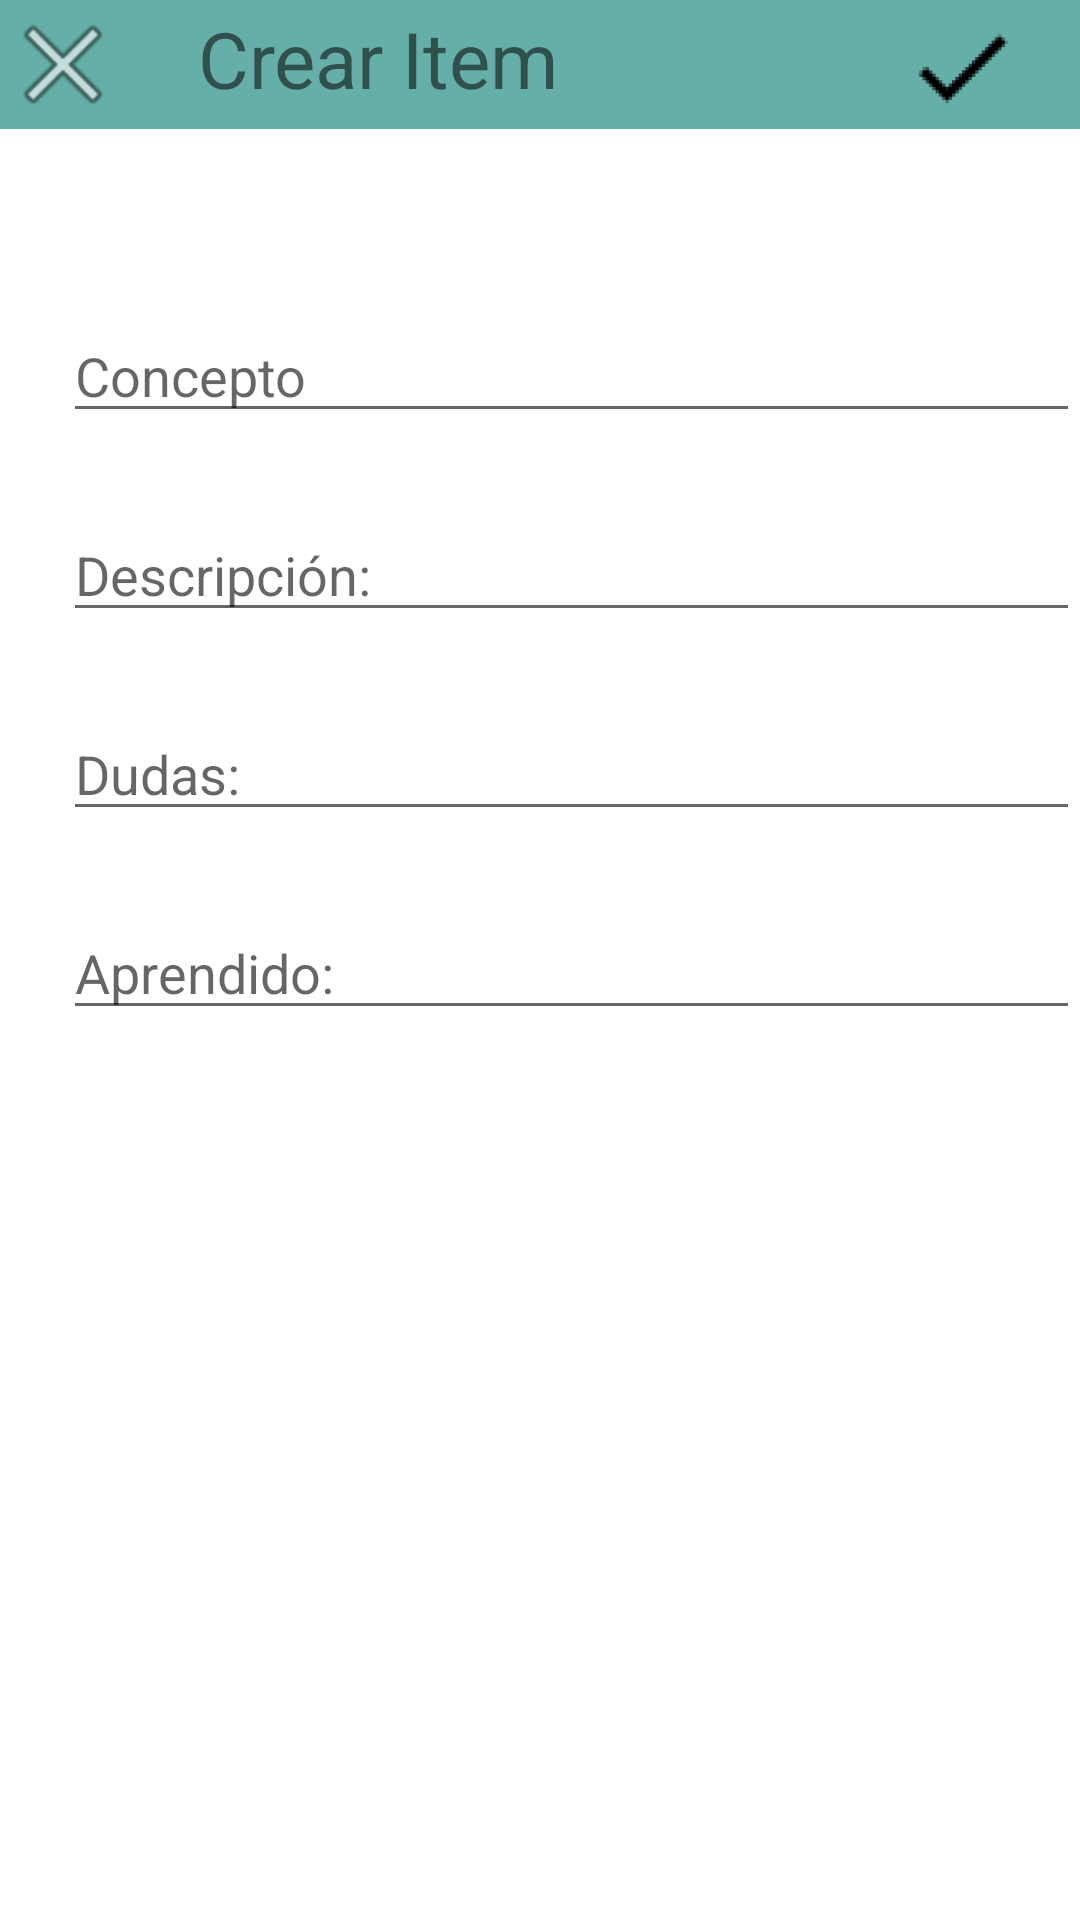

Named icons in this screenshot (1080 x 1920) and their bounding boxes, (x1, y1, x2, y2):
close clear cancel: (24, 25, 102, 104)
